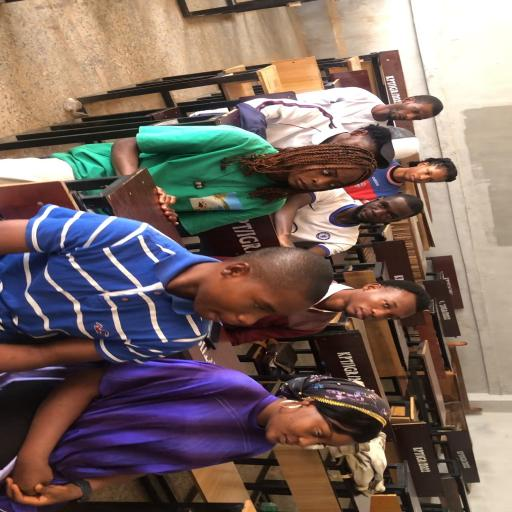Usingmobile: (0, 184, 420, 510)
